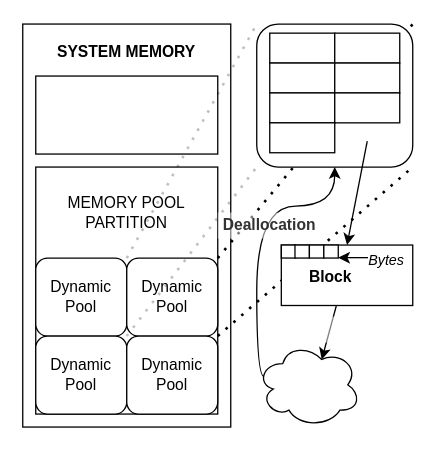
Some shapes in this 438 by 450 pixel diagram are drawn without their labels. Here are the shapes that lost their labels. From the top down, the centre of each, then its label:
At [126,114]: "STATIC ALLOCATION".
At [334,329]: "Allocation".
At [308,384]: "TCB".
